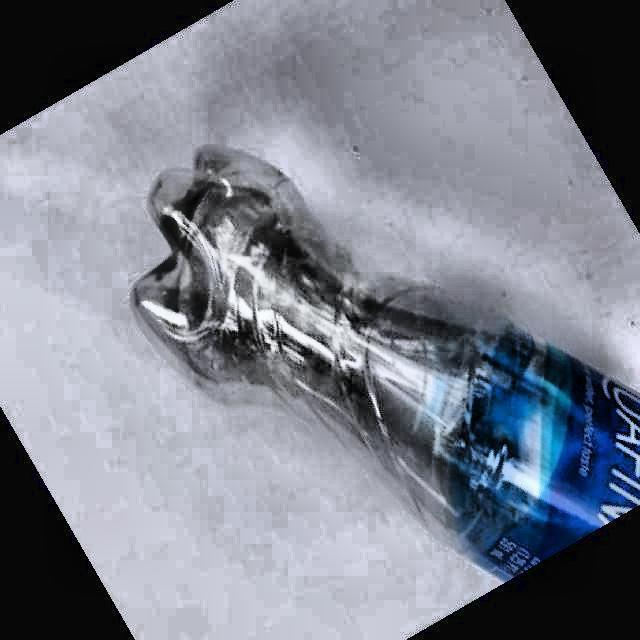plastic: (134, 149, 640, 578)
